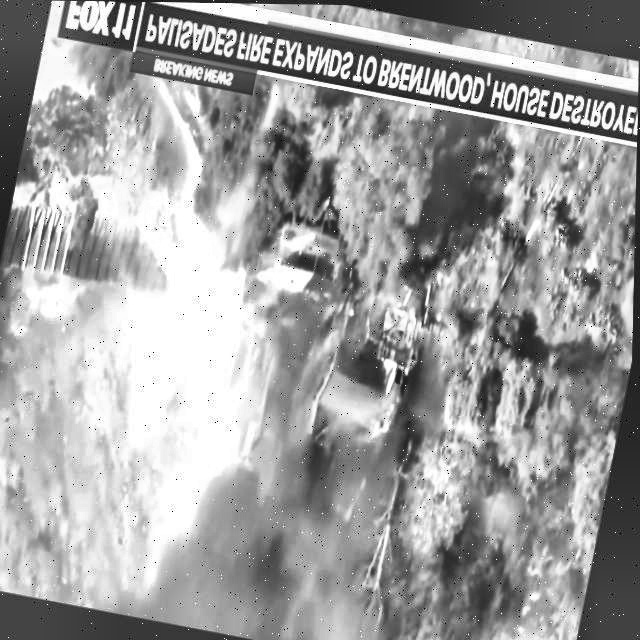Smoke: (156, 393, 407, 640)
